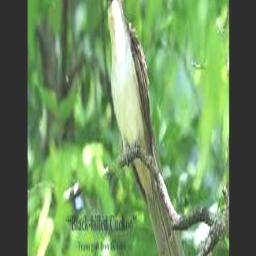Cuckoo: (106, 0, 194, 256)
